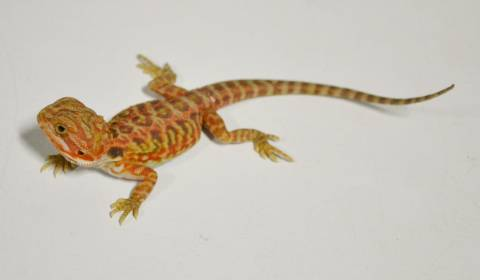bearded: (36, 53, 455, 226)
